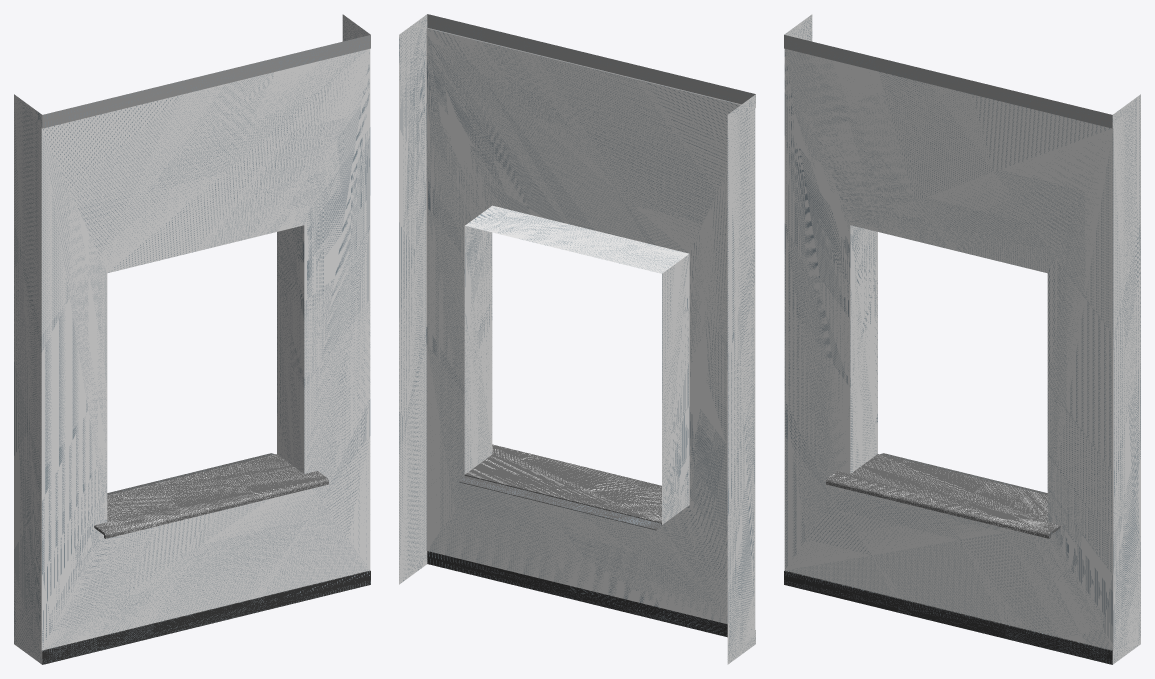
The model's file is WindowBlock_os_plinth_[250x400]_150x181x[090].dae.
The picture shows the model from 3 angles, left to right: view 1: azimuth 30°, elevation 25°; view 2: azimuth 150°, elevation 25°; view 3: azimuth 330°, elevation 25°; orthographic projection.
Visible parts, largest first — view 1: group_2 (×4), group_1; view 2: group_2 (×4), group_1 (×2); view 3: group_2 (×4), group_1.
Part boxes in pixels (box(x1,y1,x2,y2)): group_2 (×4): box(14, 14, 370, 664); group_1: box(94, 454, 328, 538); group_2 (×4): box(399, 14, 755, 664); group_1 (×2): box(459, 444, 661, 530); group_2 (×4): box(784, 14, 1140, 664); group_1: box(826, 454, 1060, 538).
Bounding box in the file's own units: 98.43 × 23.03 × 157.
